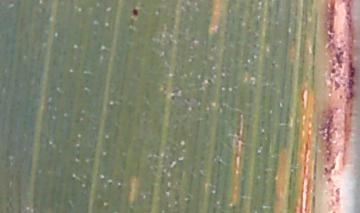tarspot: (130, 6, 140, 19)
